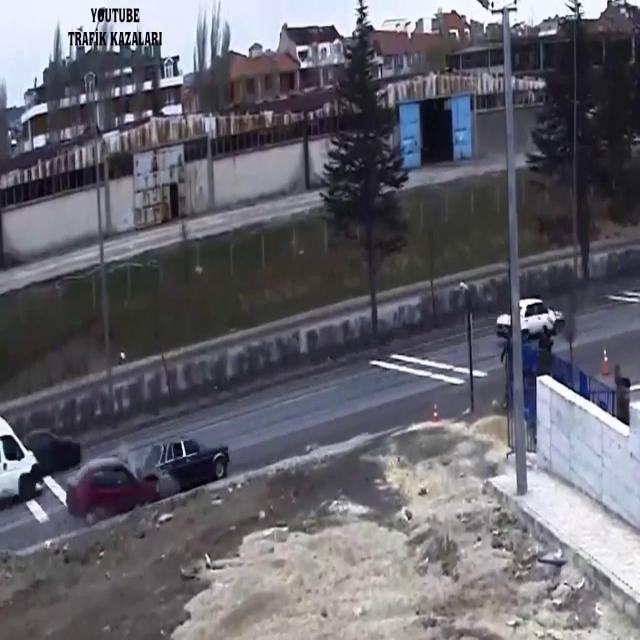accident: (67, 434, 233, 522)
